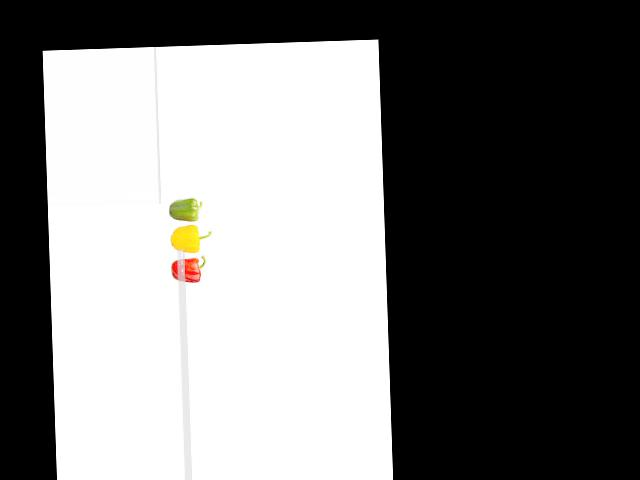bell_pepper: (166, 194, 207, 221)
